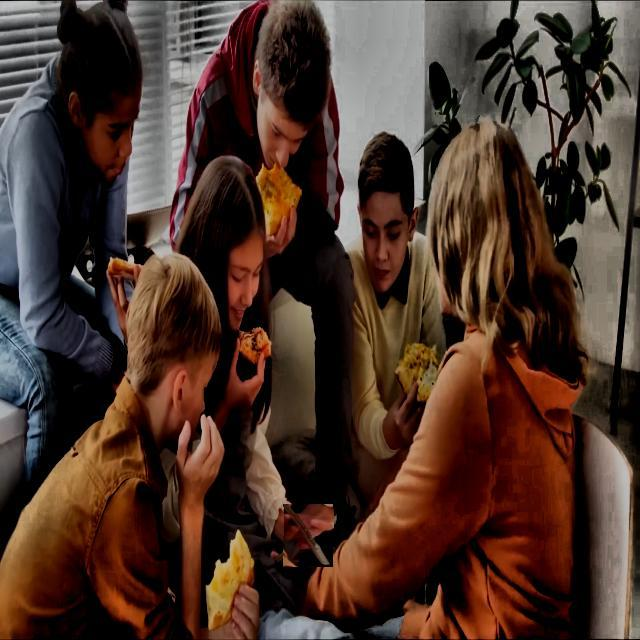Phone: (279, 507, 336, 564)
